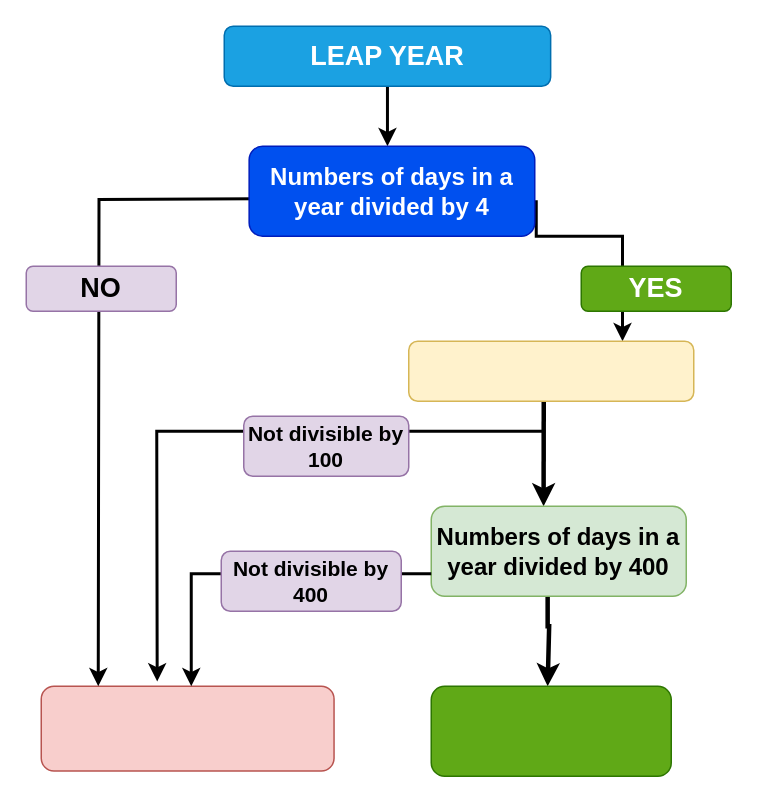
Some shapes in this 758 by 803 pixel diagram are drawn without their labels. Here are the shapes that lost their labels. From the top down, the box of each, then its label:
(407, 340, 694, 401): Numbers of days in a year Divisible by 100
(40, 685, 334, 771): No, its not a Leap Year
(430, 685, 671, 776): Yes, It is a Leap Year
